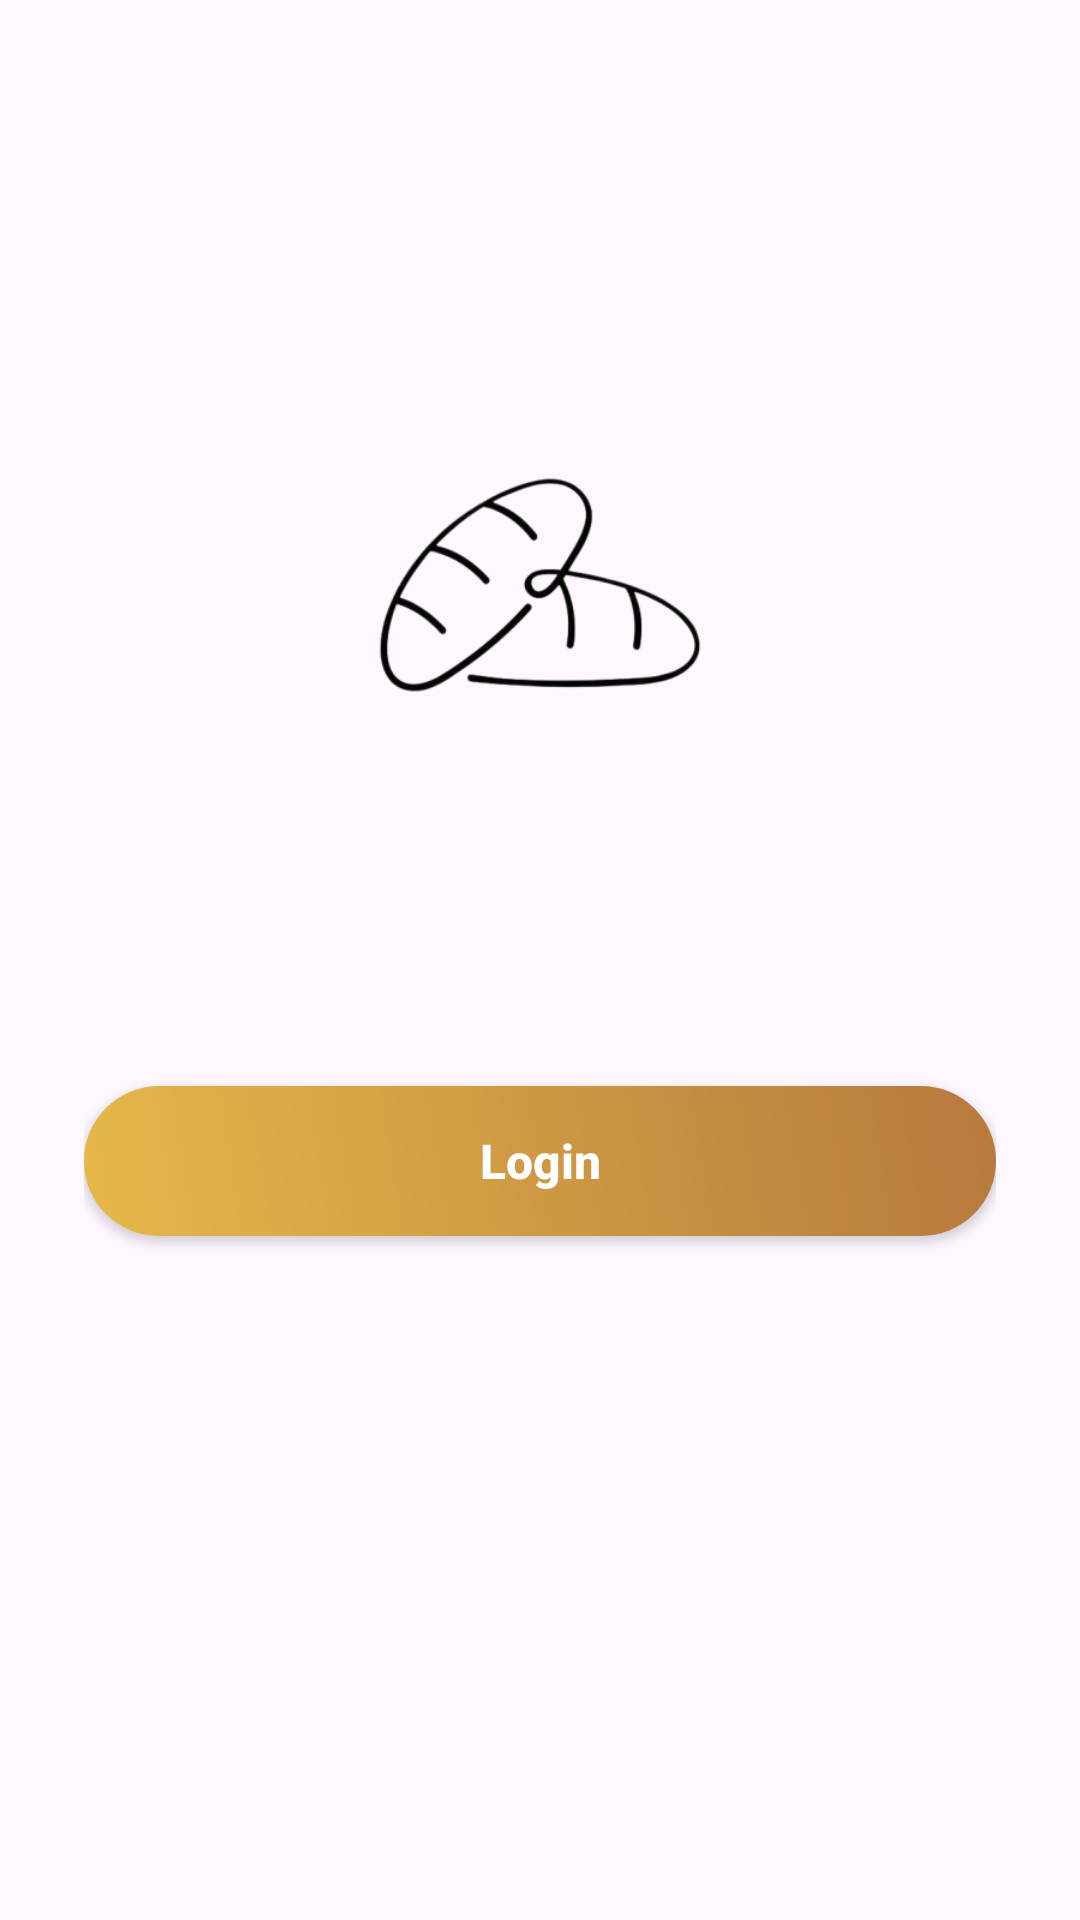

Locate icon controls on the screen. Image size 1080×1920, boxes as bbox(x1, y1, x2, y2).
Icon Bakery: bbox(380, 478, 700, 692)
